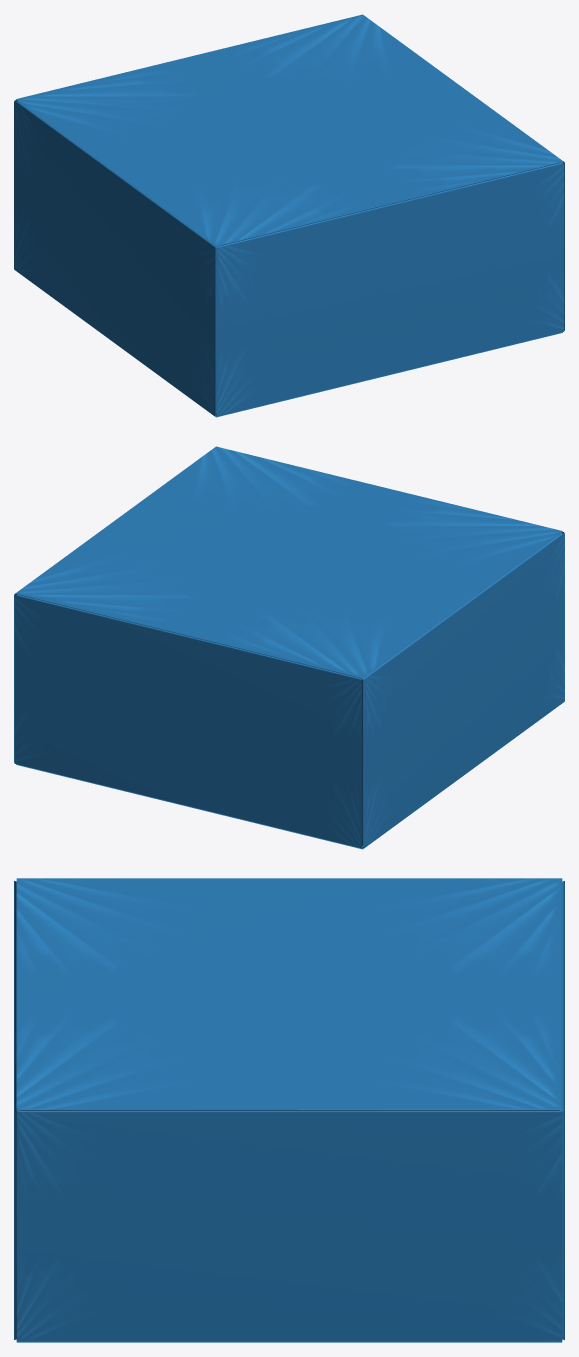
Rendered from PLF0110017.fbx.
3 renders of one model, top to bottom at view 1: azimuth 30°, elevation 25°; view 2: azimuth 150°, elevation 25°; view 3: azimuth 270°, elevation 25°, orthographic. The views are drawn at different scales.
Parts seen in each view (by area): view 1: smPLF0110017; view 2: smPLF0110017; view 3: smPLF0110017.
Part boxes in pixels (x1,y1,x2,y2): smPLF0110017: (14, 14, 564, 417); smPLF0110017: (14, 446, 564, 849); smPLF0110017: (14, 878, 564, 1342).
Bounding box in the file's own units: 239 × 112 × 239.
Materials: 1 (1 with a texture image).
